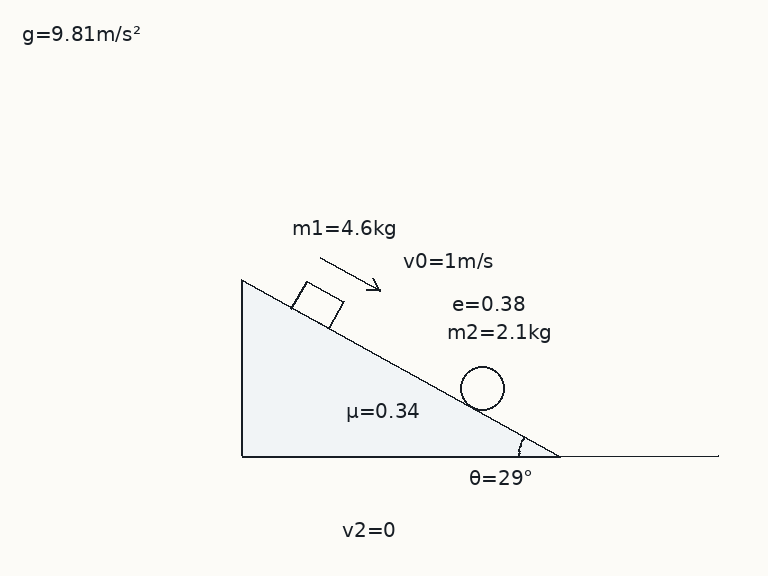ball: (458, 364, 506, 412)
block: (290, 279, 345, 330)
ramp: (240, 278, 561, 458)
